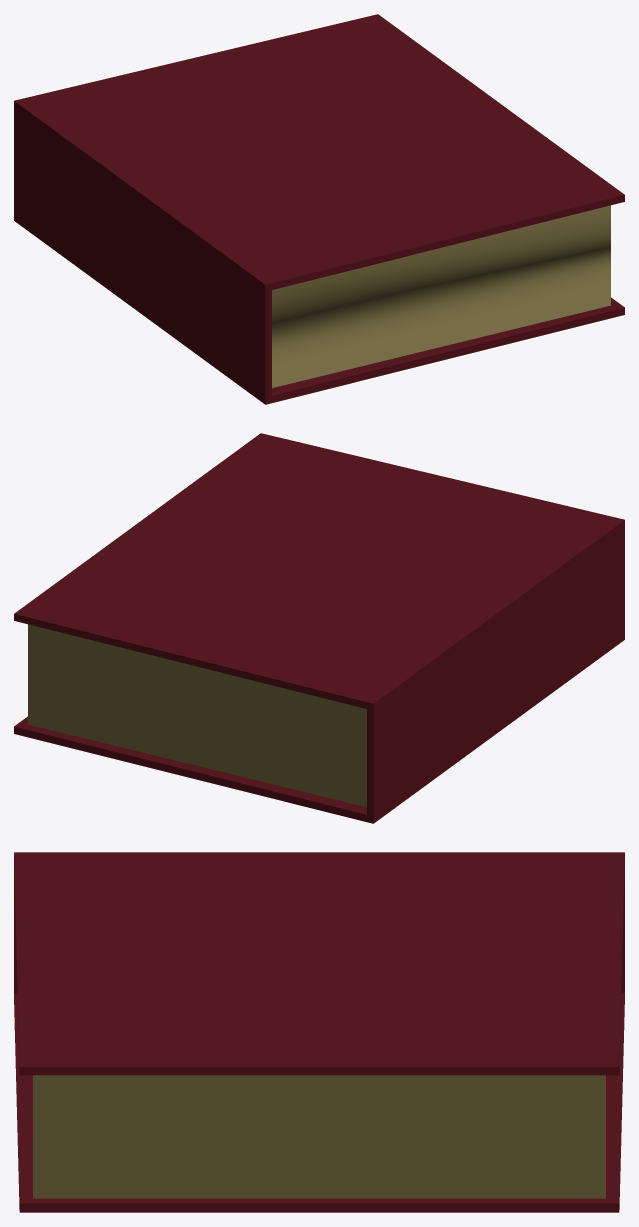
File: Red Spellbook.fbx
The picture shows the model from 3 angles, top to bottom: view 1: azimuth 30°, elevation 25°; view 2: azimuth 150°, elevation 25°; view 3: azimuth 270°, elevation 25°; orthographic projection. The views are drawn at different scales.
Visible parts, largest first — view 1: Cube.001; view 2: Cube.001; view 3: Cube.001.
Boxes of the visible parts, bbox=[...] form: Cube.001: bbox=[14, 14, 624, 404]; Cube.001: bbox=[14, 433, 624, 823]; Cube.001: bbox=[14, 852, 624, 1212].
Bounding box in the file's own units: 438 × 139 × 527.
